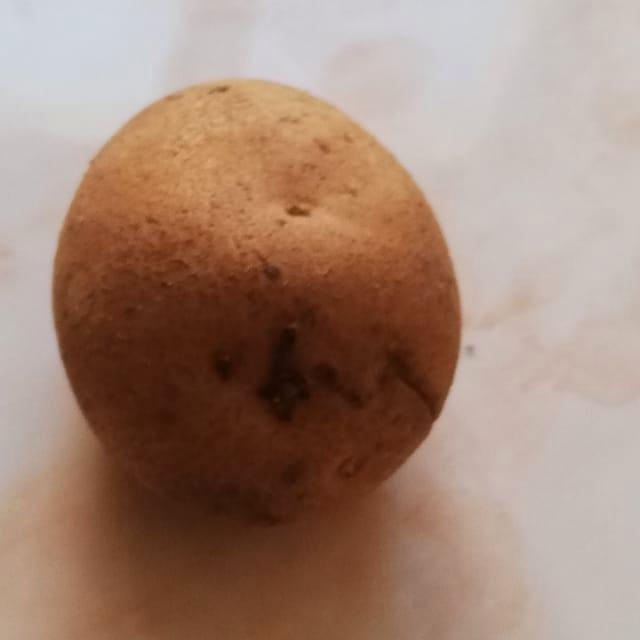potato: (45, 63, 472, 543)
